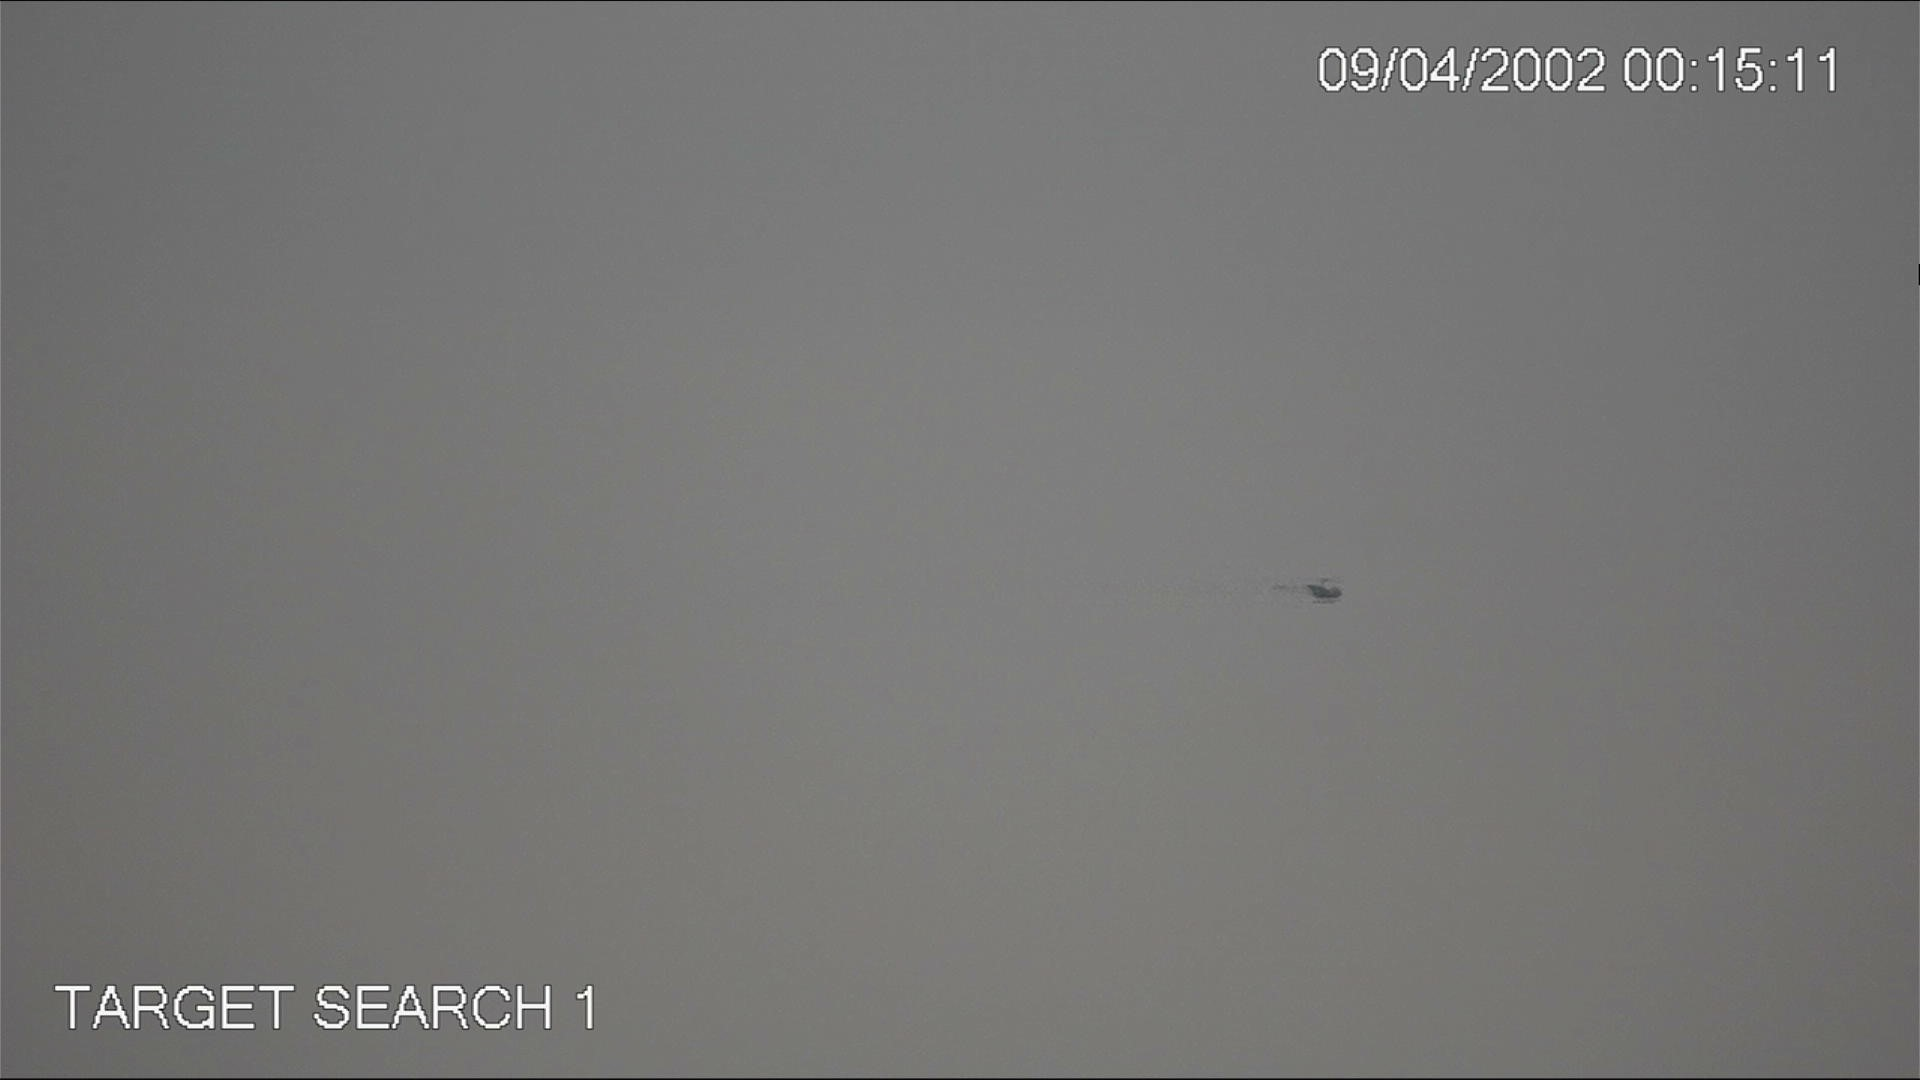SU_30: (1271, 572, 1356, 609)
